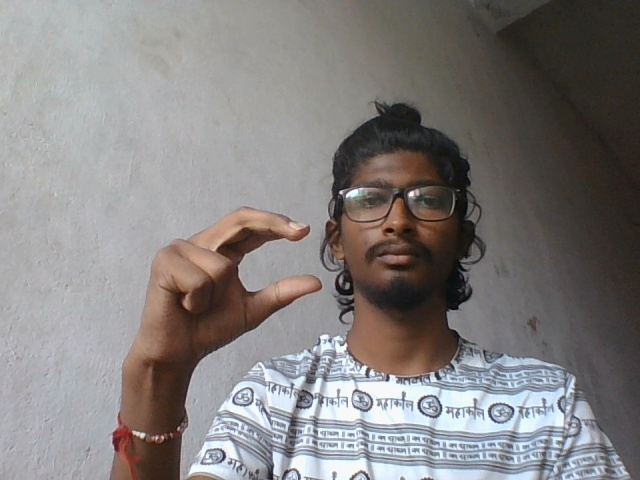Stop: (128, 200, 332, 368)
